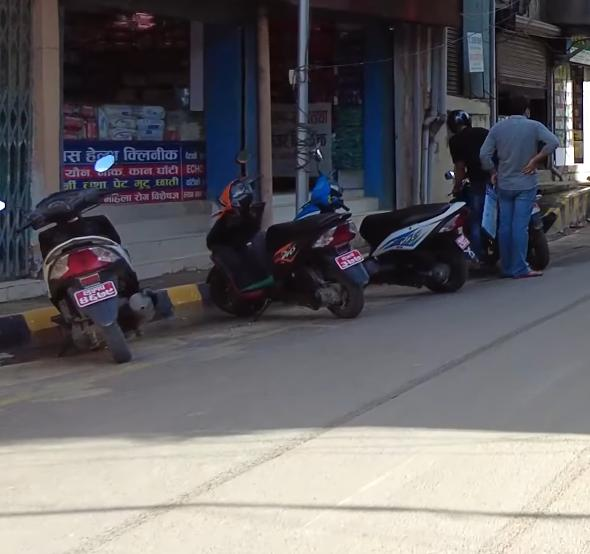scooter: (0, 177, 158, 378), (195, 160, 375, 328), (289, 145, 477, 298)
